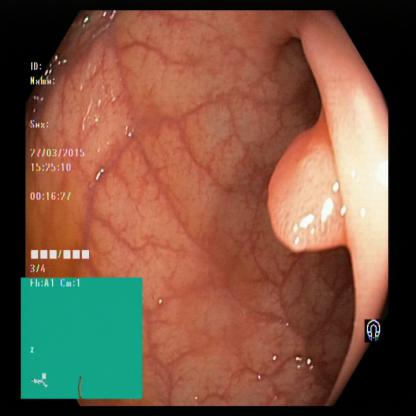Labels: (25, 57, 96, 278), (22, 275, 143, 399), (361, 313, 391, 348)
Polyps: (271, 132, 346, 260)
